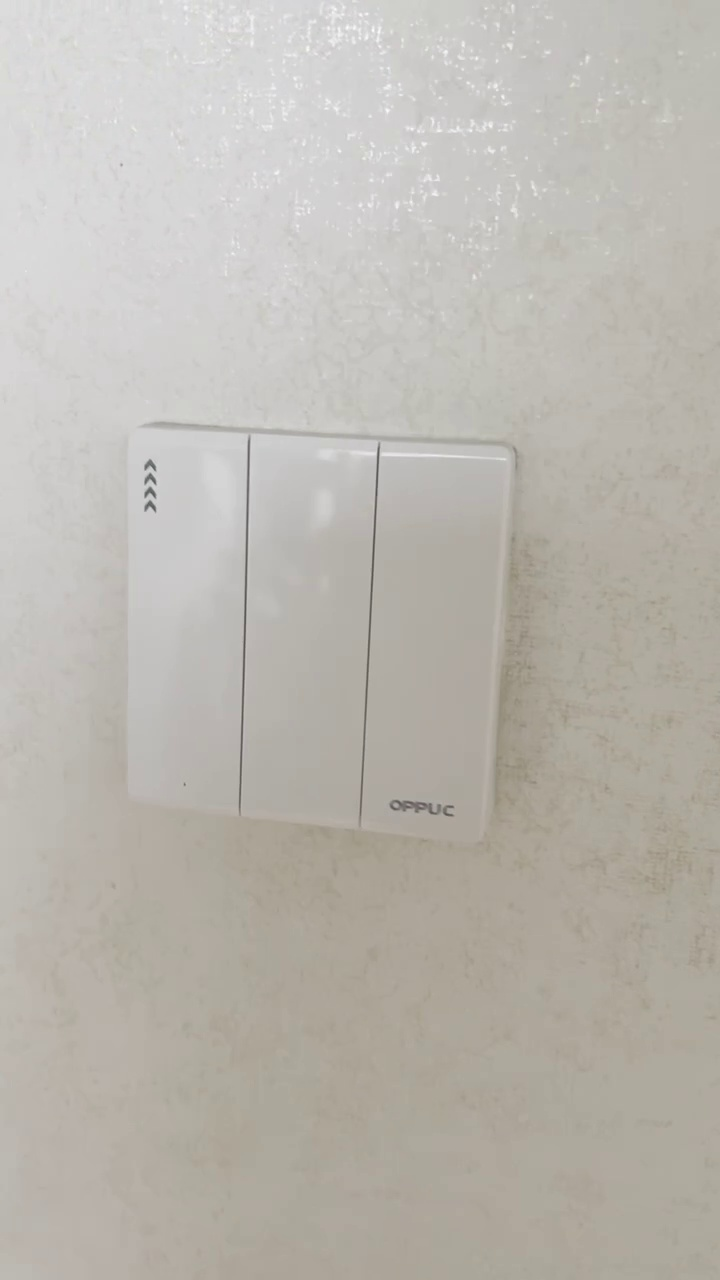button1: (246, 436, 368, 823), (366, 450, 489, 827), (131, 439, 243, 811)
